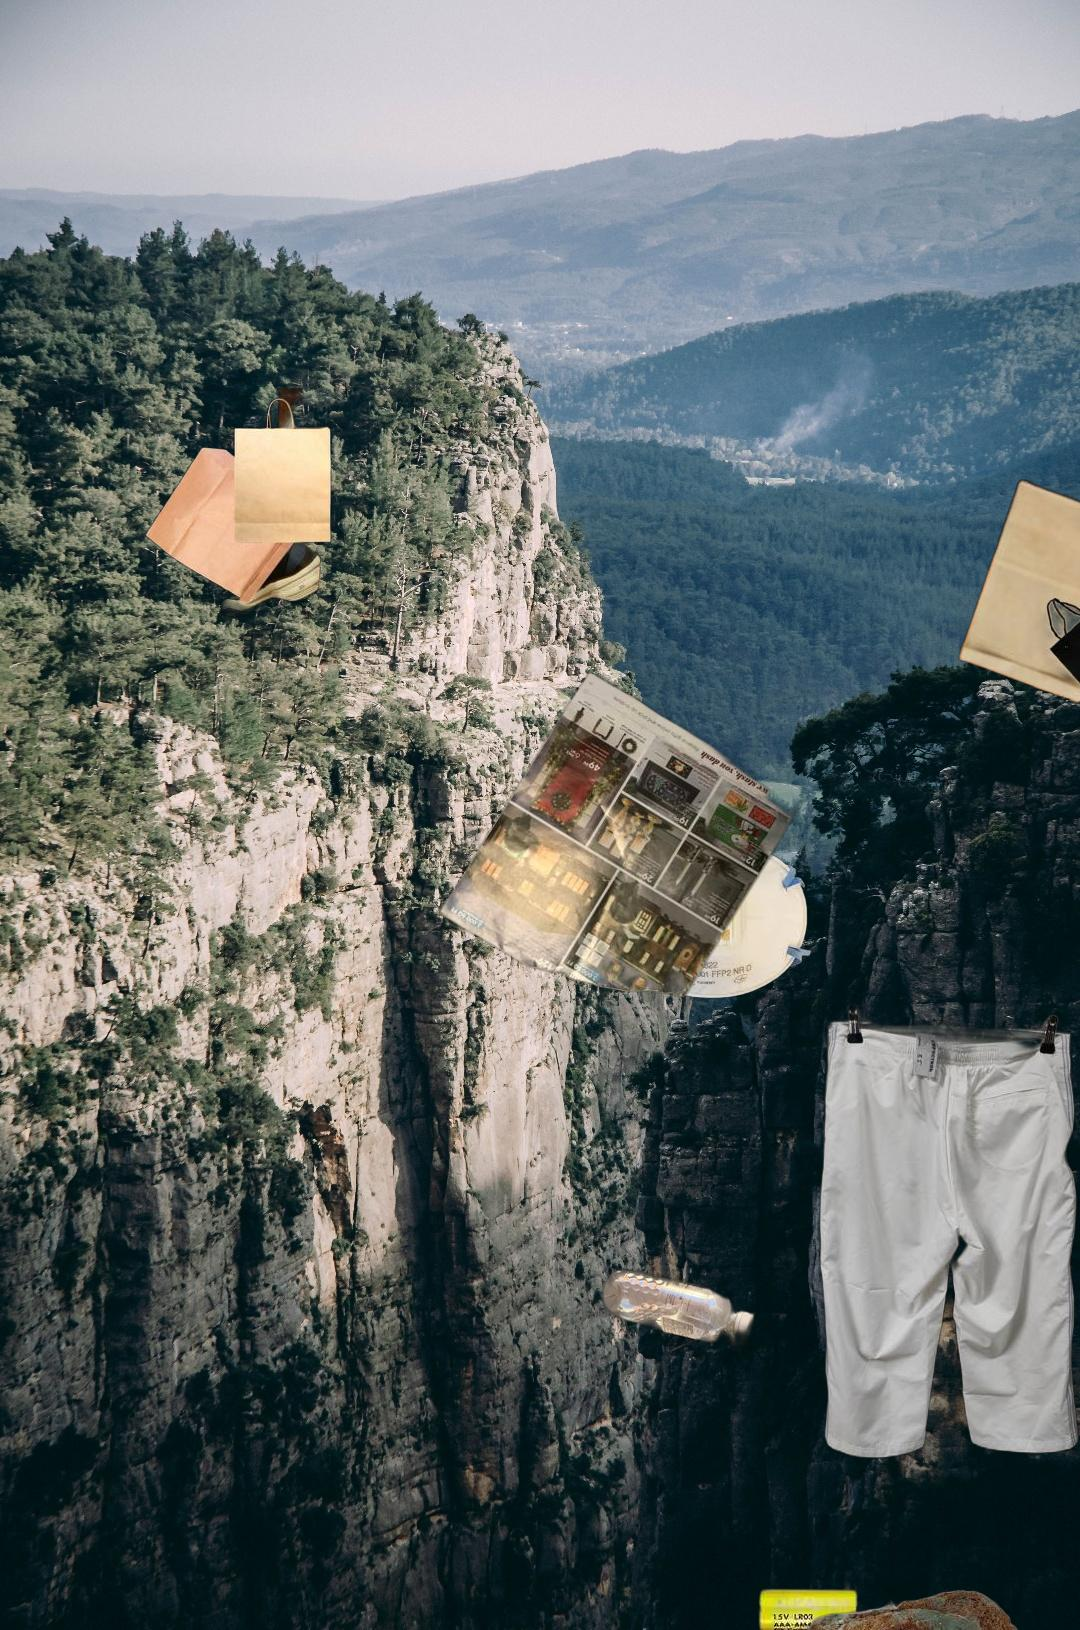battery: (751, 1584, 944, 1630)
biological: (774, 1569, 1037, 1630)
clothes: (809, 977, 1080, 1463)
paper: (435, 669, 805, 1001)
paper-bag: (142, 388, 334, 620), (956, 477, 1080, 754)
plastic-bottles: (477, 1264, 762, 1630)
trash: (609, 820, 814, 1001)
